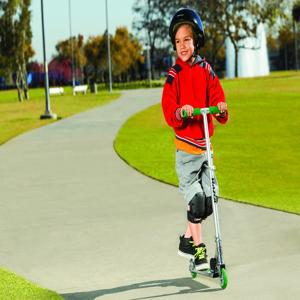human on a scooter: (160, 6, 231, 291)
